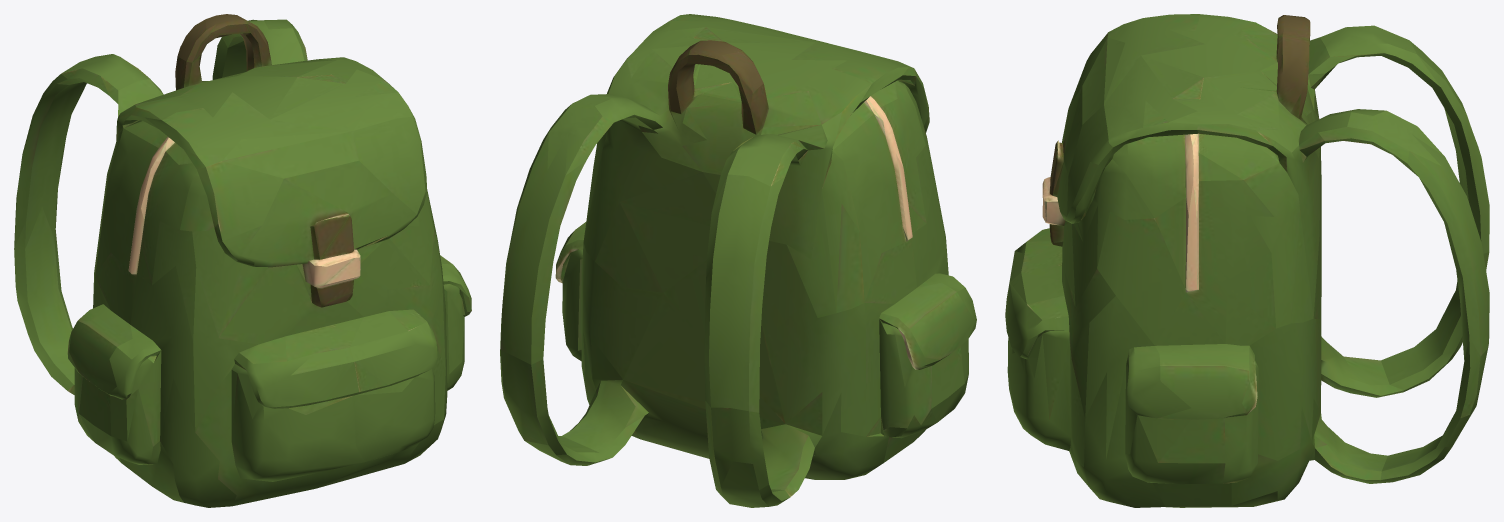
Rendered from backpack_small.fbx.
The picture shows the model from 3 angles, left to right: view 1: azimuth 30°, elevation 25°; view 2: azimuth 150°, elevation 25°; view 3: azimuth 270°, elevation 25°; orthographic projection. The views are drawn at different scales.
Visible parts, largest first — view 1: Mesh_0; view 2: Mesh_0; view 3: Mesh_0.
Part boxes in pixels (<box>): Mesh_0: <box>14,14,471,507</box>; Mesh_0: <box>500,14,976,507</box>; Mesh_0: <box>1005,14,1489,507</box>.
Bounding box in the file's own units: 1.73 × 1.85 × 1.9.
1 material, 1 textured.
